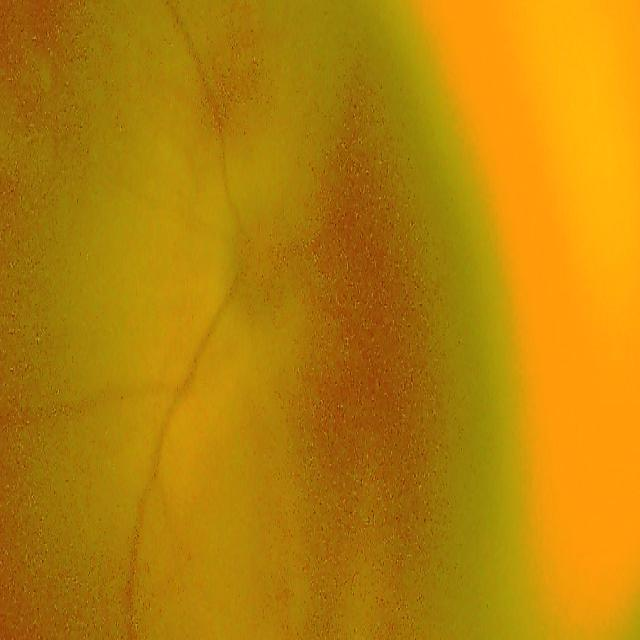optic-nerve: (210, 188, 306, 332)
